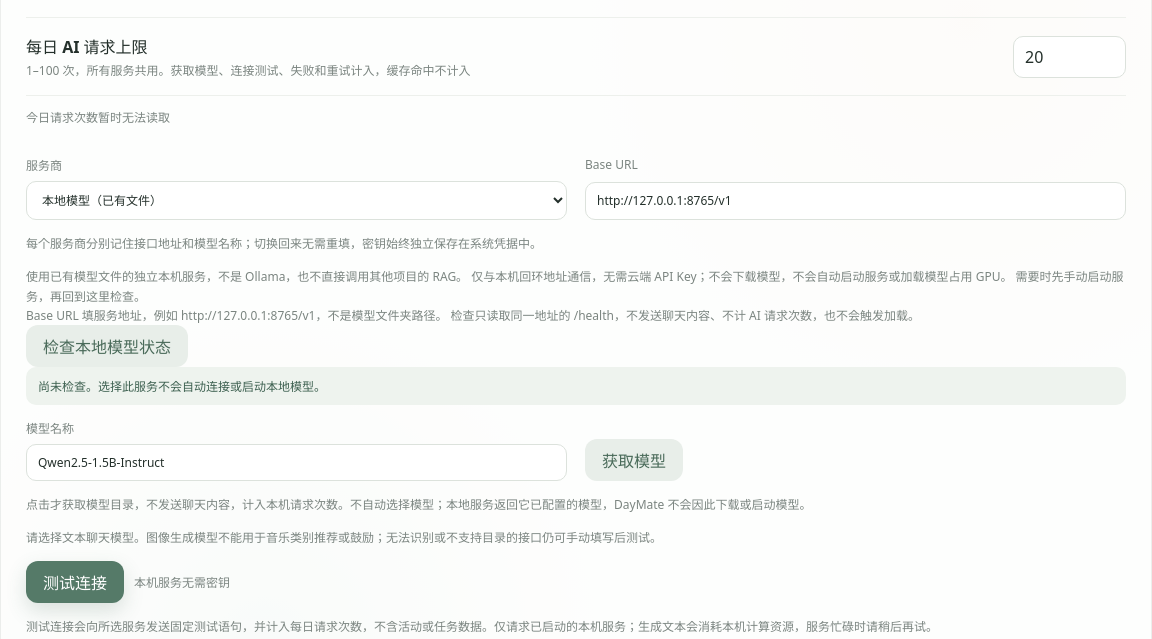
AI 设置与系统设置 › 本机检查失败有明确消息，原有目录和测试不需要云Key
The image size is (1152, 639).
(page scrolled)
Click the button "检查本地模型状态": (107, 346) [26,325,188,367]
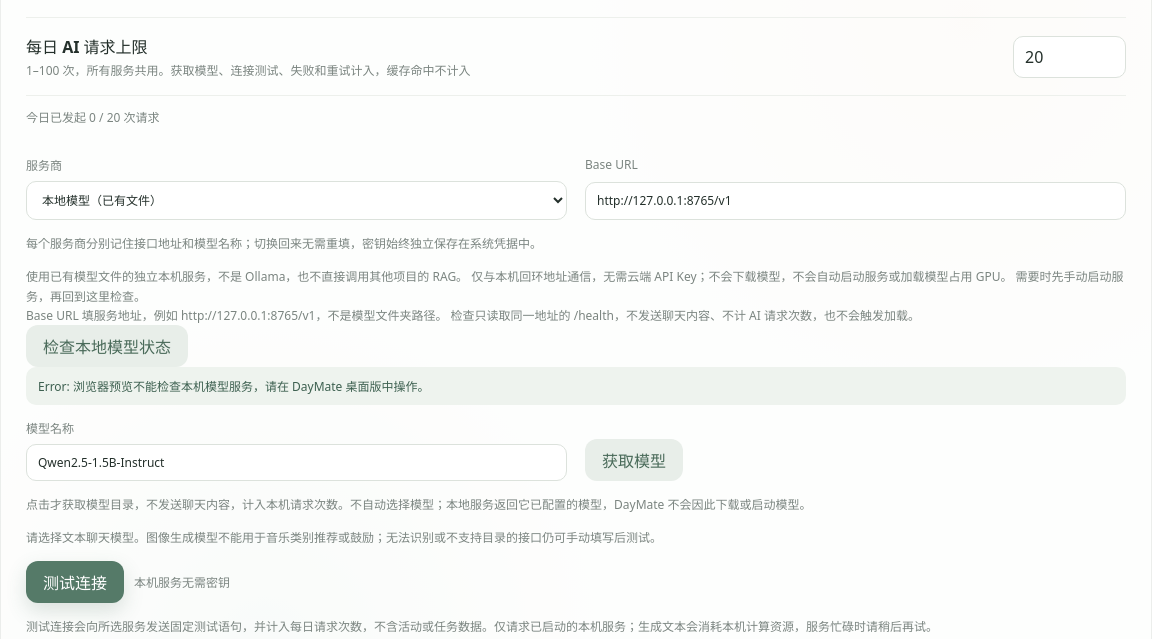
Now the text "Error: 浏览器预览不能检查本机模型服务，请在 DayMate 桌面版中操作。" is shown, box [26,367,1126,405]
Click the button "获取模型": (634, 460) [585,439,683,481]
(page scrolled)
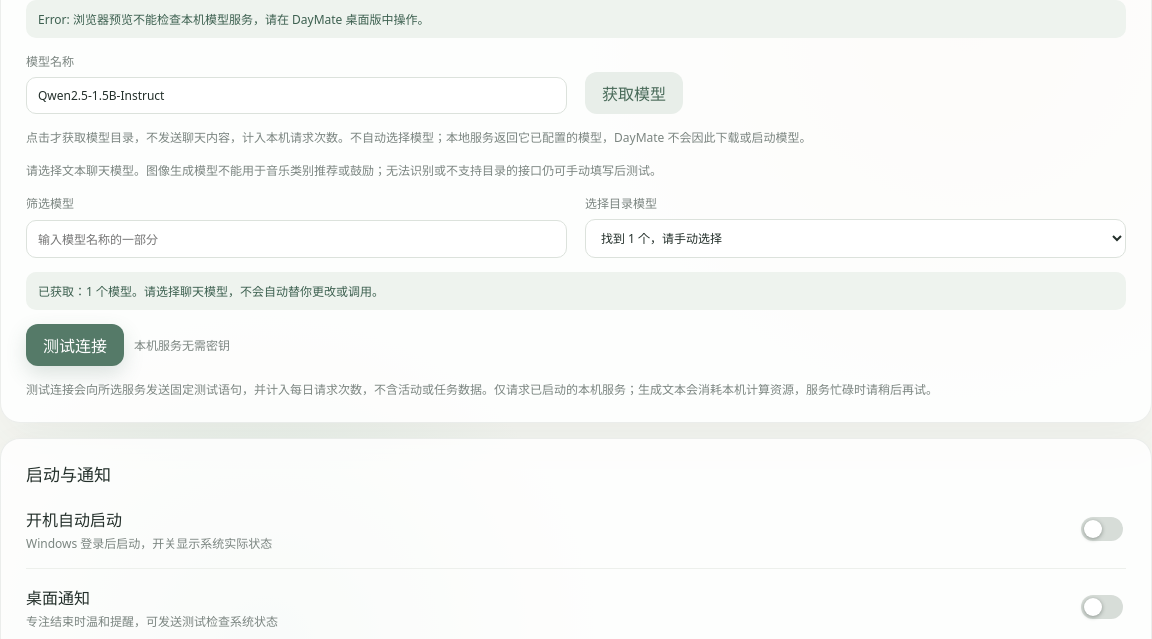
Now the text "已获取：1 个模型。请选择聊天模型，不会自动替你更改或调用。" is shown, box [26,272,1126,310]
Click the button "测试连接": (75, 345) [26,324,124,366]
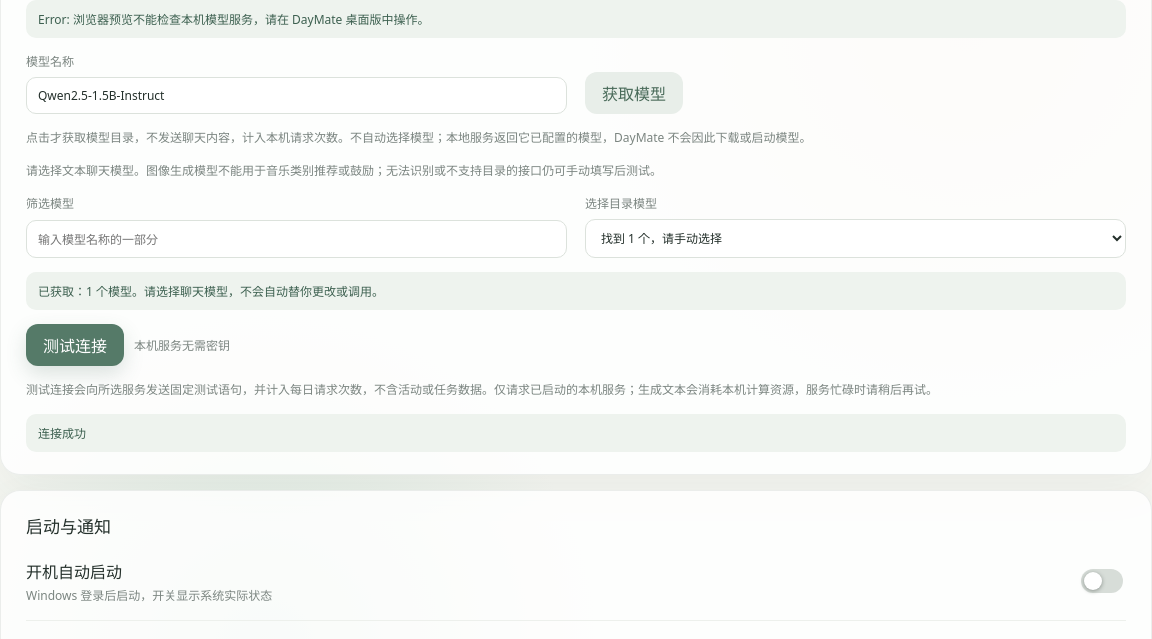
Now the text "连接成功" is shown, box [26,414,1126,452]
